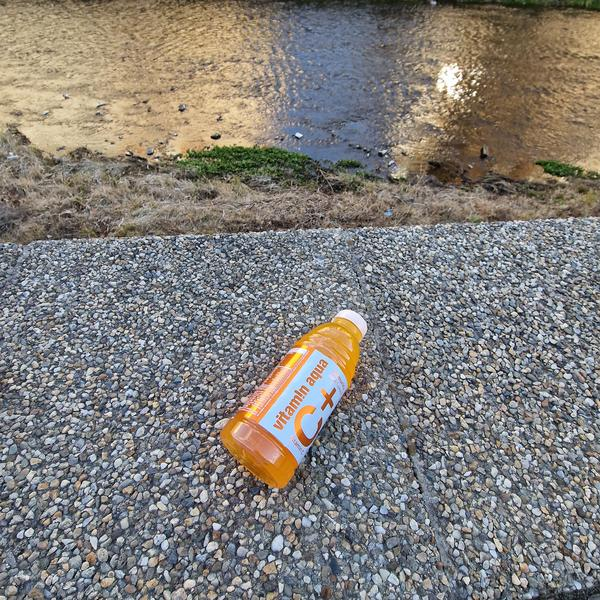plastic_bottle: (214, 291, 395, 492)
